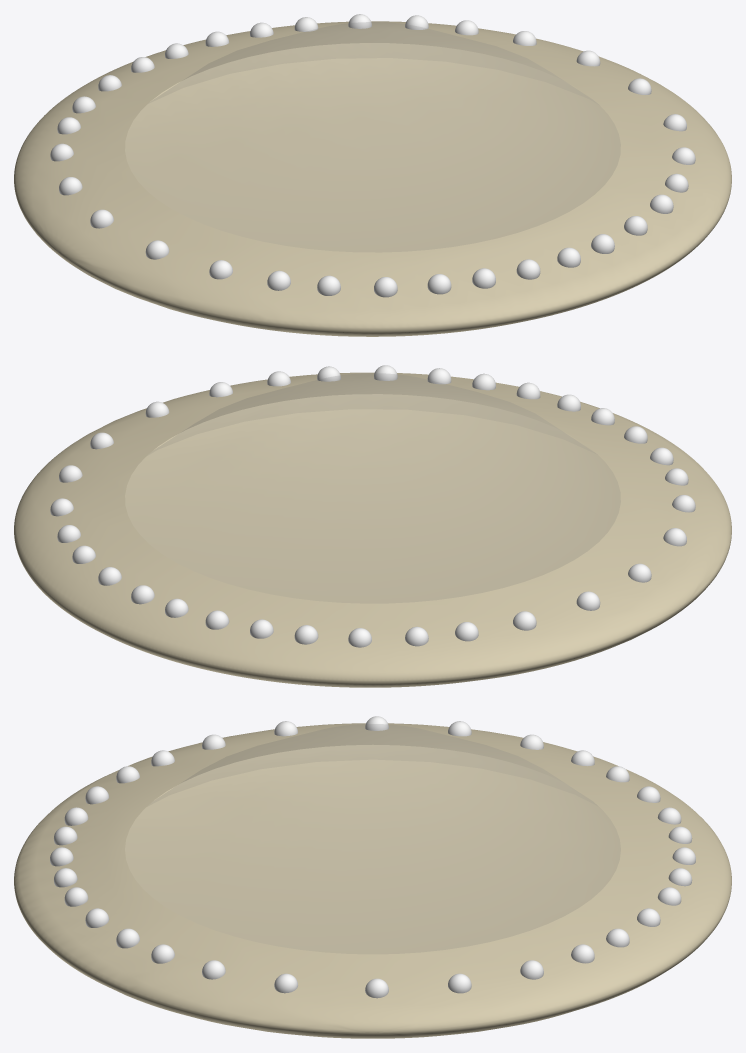
File: 5492_UFO.fbx
3 views of the same model, one above another, from view 1: azimuth 30°, elevation 25°; view 2: azimuth 150°, elevation 25°; view 3: azimuth 270°, elevation 25° (orthographic).
Visible parts, largest first — view 1: Obj_000033, Obj_000034; view 2: Obj_000033, Obj_000034; view 3: Obj_000033, Obj_000034.
Part boxes in pixels (<box>): Obj_000033: <box>14,21,731,336</box>; Obj_000034: <box>149,22,598,104</box>; Obj_000033: <box>14,372,731,687</box>; Obj_000034: <box>149,373,595,454</box>; Obj_000033: <box>14,723,731,1038</box>; Obj_000034: <box>149,724,596,805</box>.
Bounding box in the file's own units: 76.2 × 20.31 × 76.2.
